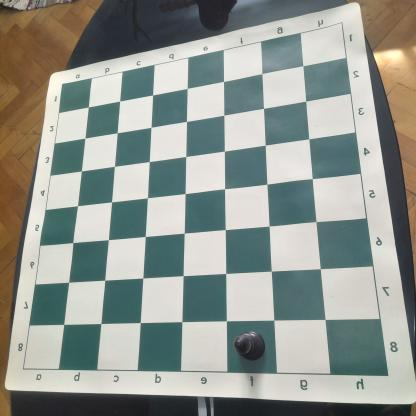black-bishop: (233, 330, 266, 363)
